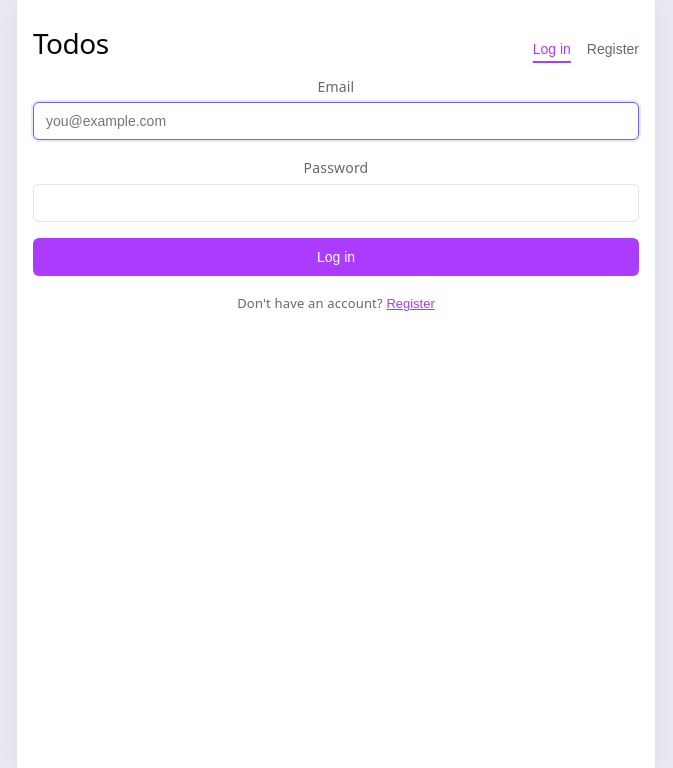
it: App auth routing › no auth token in localStorage › Register nav button click › shows the register form
What coordinates should you click on to do the following:
click the button "Register" in the row of "Todos"
I would click on:
 (613, 49)
Its box is x1=587 y1=41 x2=639 y2=57.
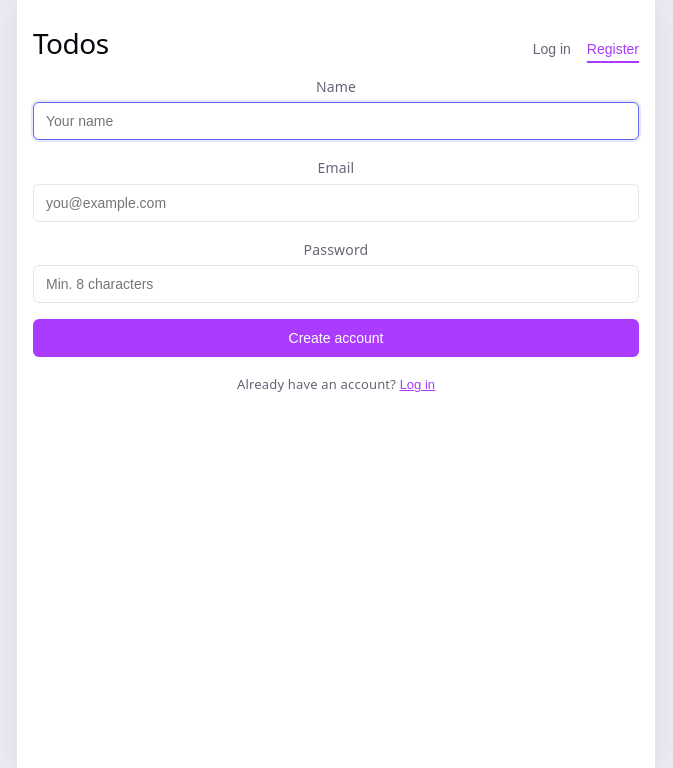
Now the field labelled "Name" is shown, box x1=33 y1=102 x2=639 y2=140
Now the button "Create account" is shown, box x1=33 y1=319 x2=639 y2=357
